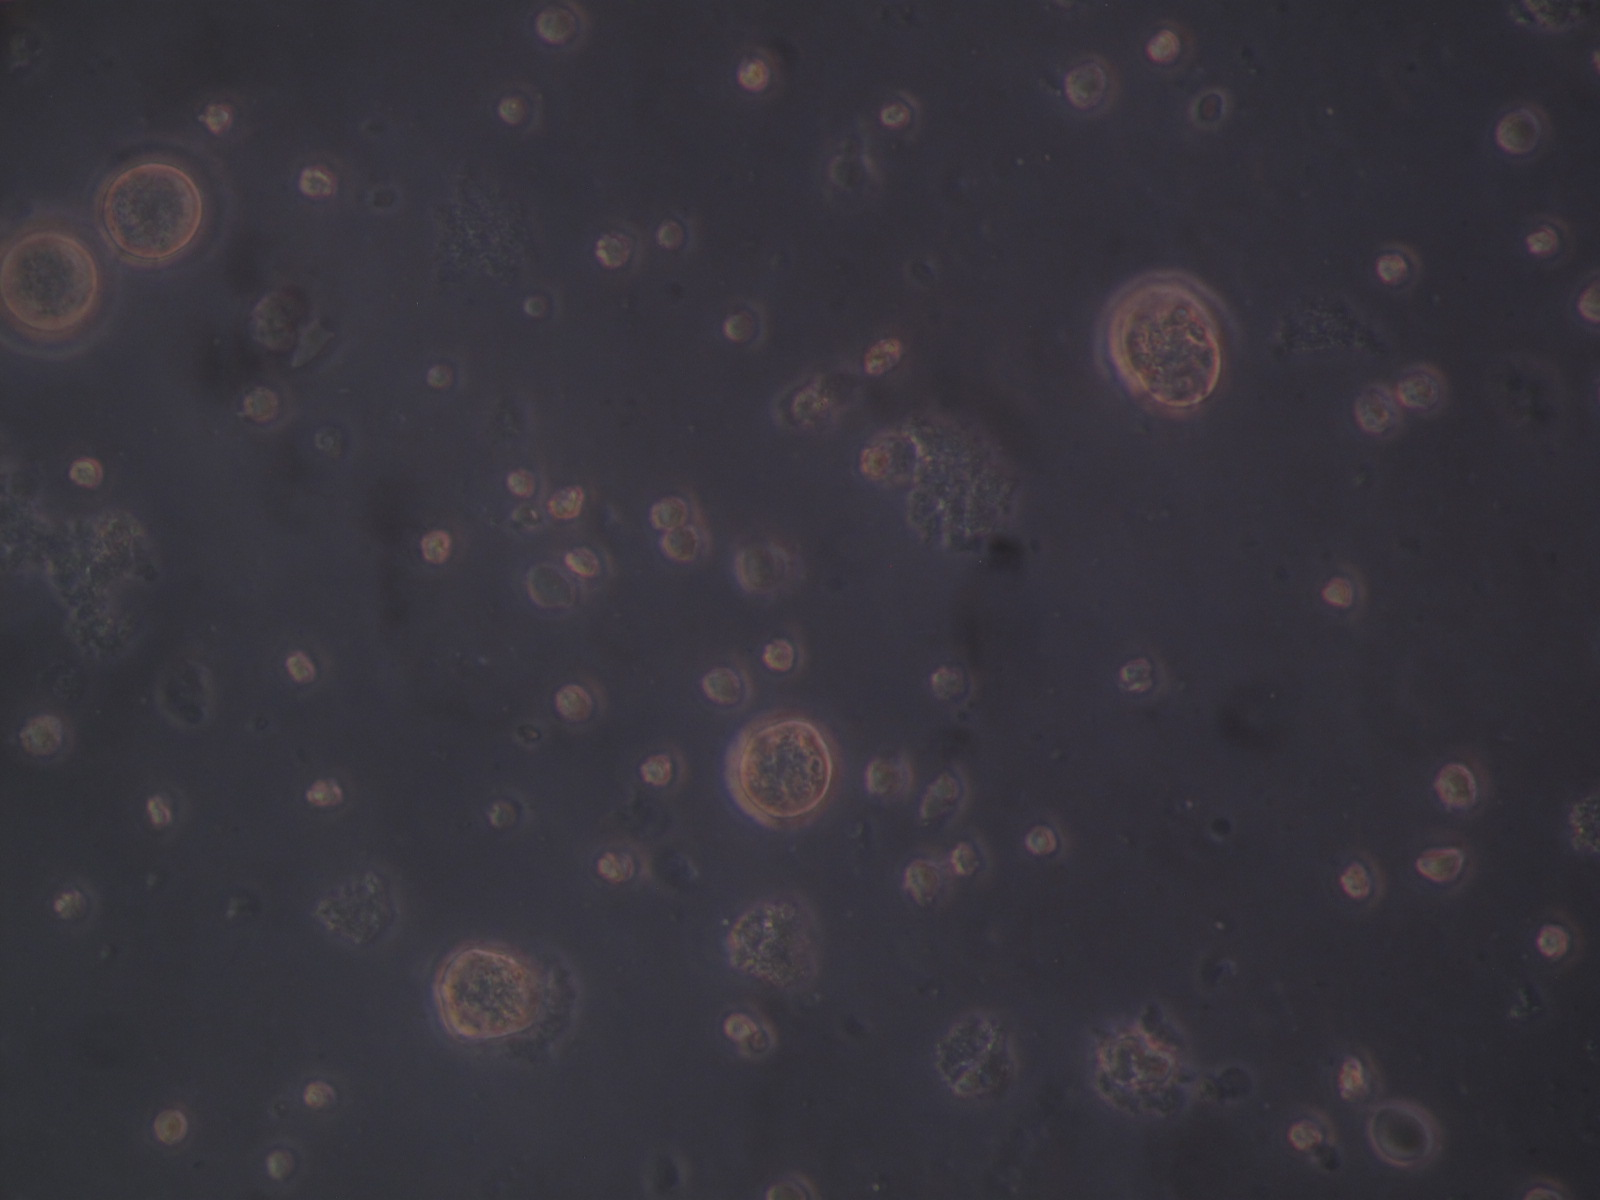hemo: (1366, 1100, 1439, 1167), (1436, 755, 1493, 813), (1066, 53, 1120, 108), (1416, 845, 1477, 892), (1335, 1045, 1383, 1105), (1495, 103, 1550, 154), (1354, 382, 1403, 435), (1397, 363, 1448, 413), (535, 3, 587, 52), (734, 546, 789, 592), (21, 715, 77, 760), (147, 1100, 198, 1150), (595, 219, 644, 270), (1286, 1103, 1338, 1151), (918, 771, 966, 823), (252, 1138, 304, 1186), (1339, 850, 1386, 903), (905, 855, 951, 908), (591, 845, 650, 886), (1534, 909, 1579, 964), (50, 879, 100, 928), (1373, 239, 1424, 287), (650, 482, 700, 529), (703, 661, 752, 708), (1325, 562, 1367, 618), (145, 792, 191, 841), (1144, 26, 1196, 71), (1020, 814, 1067, 861), (556, 681, 606, 724), (295, 1071, 341, 1116), (724, 301, 769, 347), (564, 541, 614, 581), (867, 756, 912, 799), (931, 661, 976, 703), (498, 95, 544, 136), (661, 524, 711, 563), (643, 747, 685, 792), (717, 1001, 758, 1042), (1121, 654, 1165, 693), (951, 832, 989, 877), (737, 49, 779, 89), (864, 335, 905, 377), (879, 92, 923, 130), (1527, 218, 1569, 257), (488, 792, 527, 832), (1191, 89, 1228, 130), (763, 637, 805, 673), (656, 213, 694, 252), (546, 487, 587, 522), (243, 384, 280, 422), (522, 287, 562, 321), (69, 455, 105, 489), (858, 444, 892, 478), (283, 649, 317, 683), (300, 166, 338, 195), (741, 1029, 776, 1058), (307, 779, 344, 807), (422, 529, 450, 565), (506, 464, 537, 495), (1577, 285, 1600, 326), (202, 103, 232, 134), (425, 364, 451, 389)
